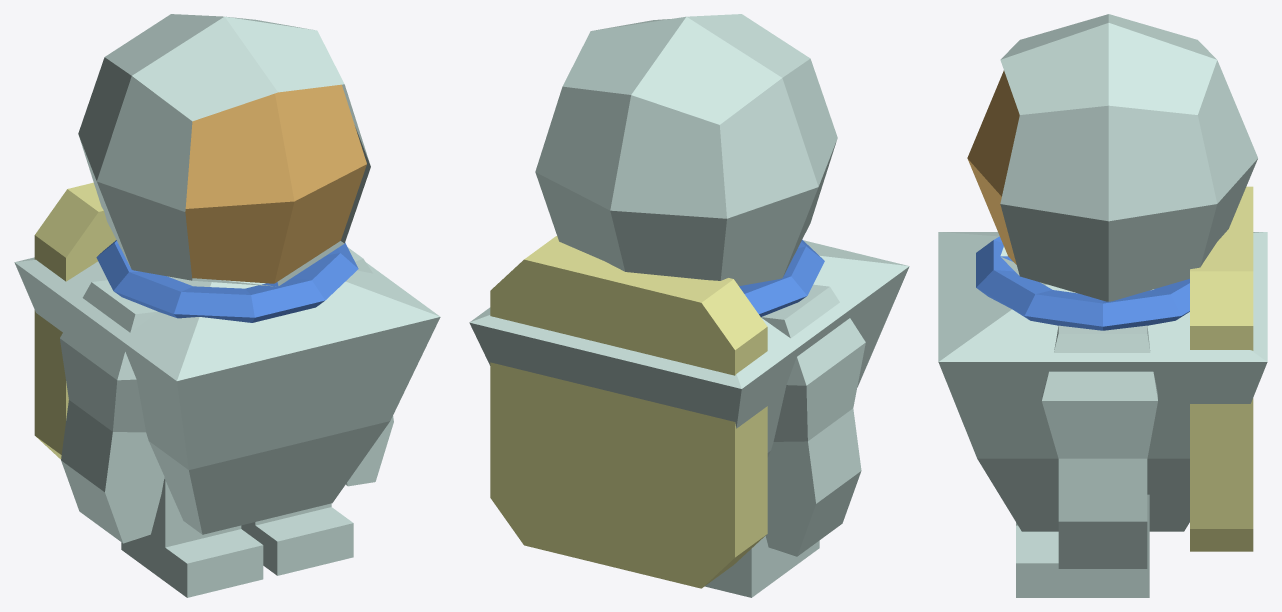
File: AstronautMkI.glb
3 views of the same model, side by side, from view 1: azimuth 30°, elevation 25°; view 2: azimuth 150°, elevation 25°; view 3: azimuth 270°, elevation 25° (orthographic). The views are drawn at different scales.
Parts seen in each view (by area): view 1: Cube.002, Cube, Cube.001, Cube.004, Cube.003, Torus, Cube.005; view 2: Cube.005, Cube, Cube.002, Cube.004, Cube.003, Torus; view 3: Cube, Cube.002, Cube.004, Cube.005, Torus, Cube.003, Cube.001.
Part boxes in pixels (x1,y1,x2,y2): Cube.002: (14, 257, 440, 534); Cube: (78, 14, 370, 286); Cube.001: (185, 84, 366, 283); Cube.004: (60, 247, 393, 543); Cube.003: (121, 479, 353, 597); Torus: (96, 240, 358, 322); Cube.005: (34, 182, 116, 459); Cube.005: (490, 236, 767, 588); Cube: (535, 14, 837, 285); Cube.002: (469, 240, 909, 457); Cube.004: (761, 284, 865, 556); Cube.003: (705, 536, 819, 597); Torus: (739, 239, 824, 316); Cube: (1000, 14, 1257, 301); Cube.002: (938, 232, 1267, 531); Cube.004: (1041, 325, 1157, 568); Cube.005: (1190, 186, 1253, 551); Torus: (976, 236, 1189, 330); Cube.003: (1016, 494, 1149, 597); Cube.001: (967, 70, 1019, 264).
Bounding box in the file's own units: 1.9 × 3.31 × 1.85.
